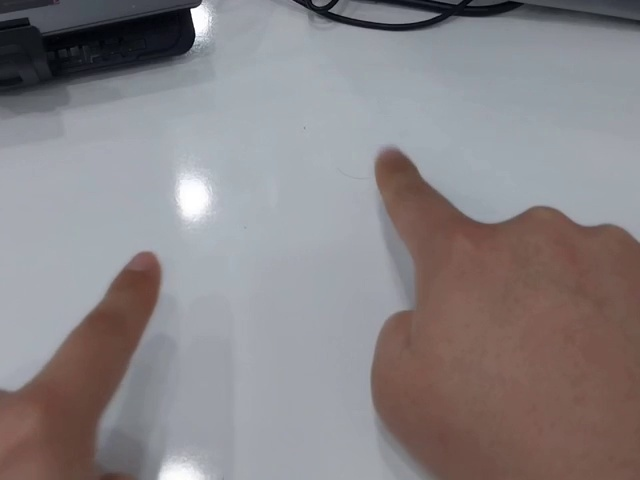fingers: (111, 250, 162, 301), (374, 146, 421, 193)
